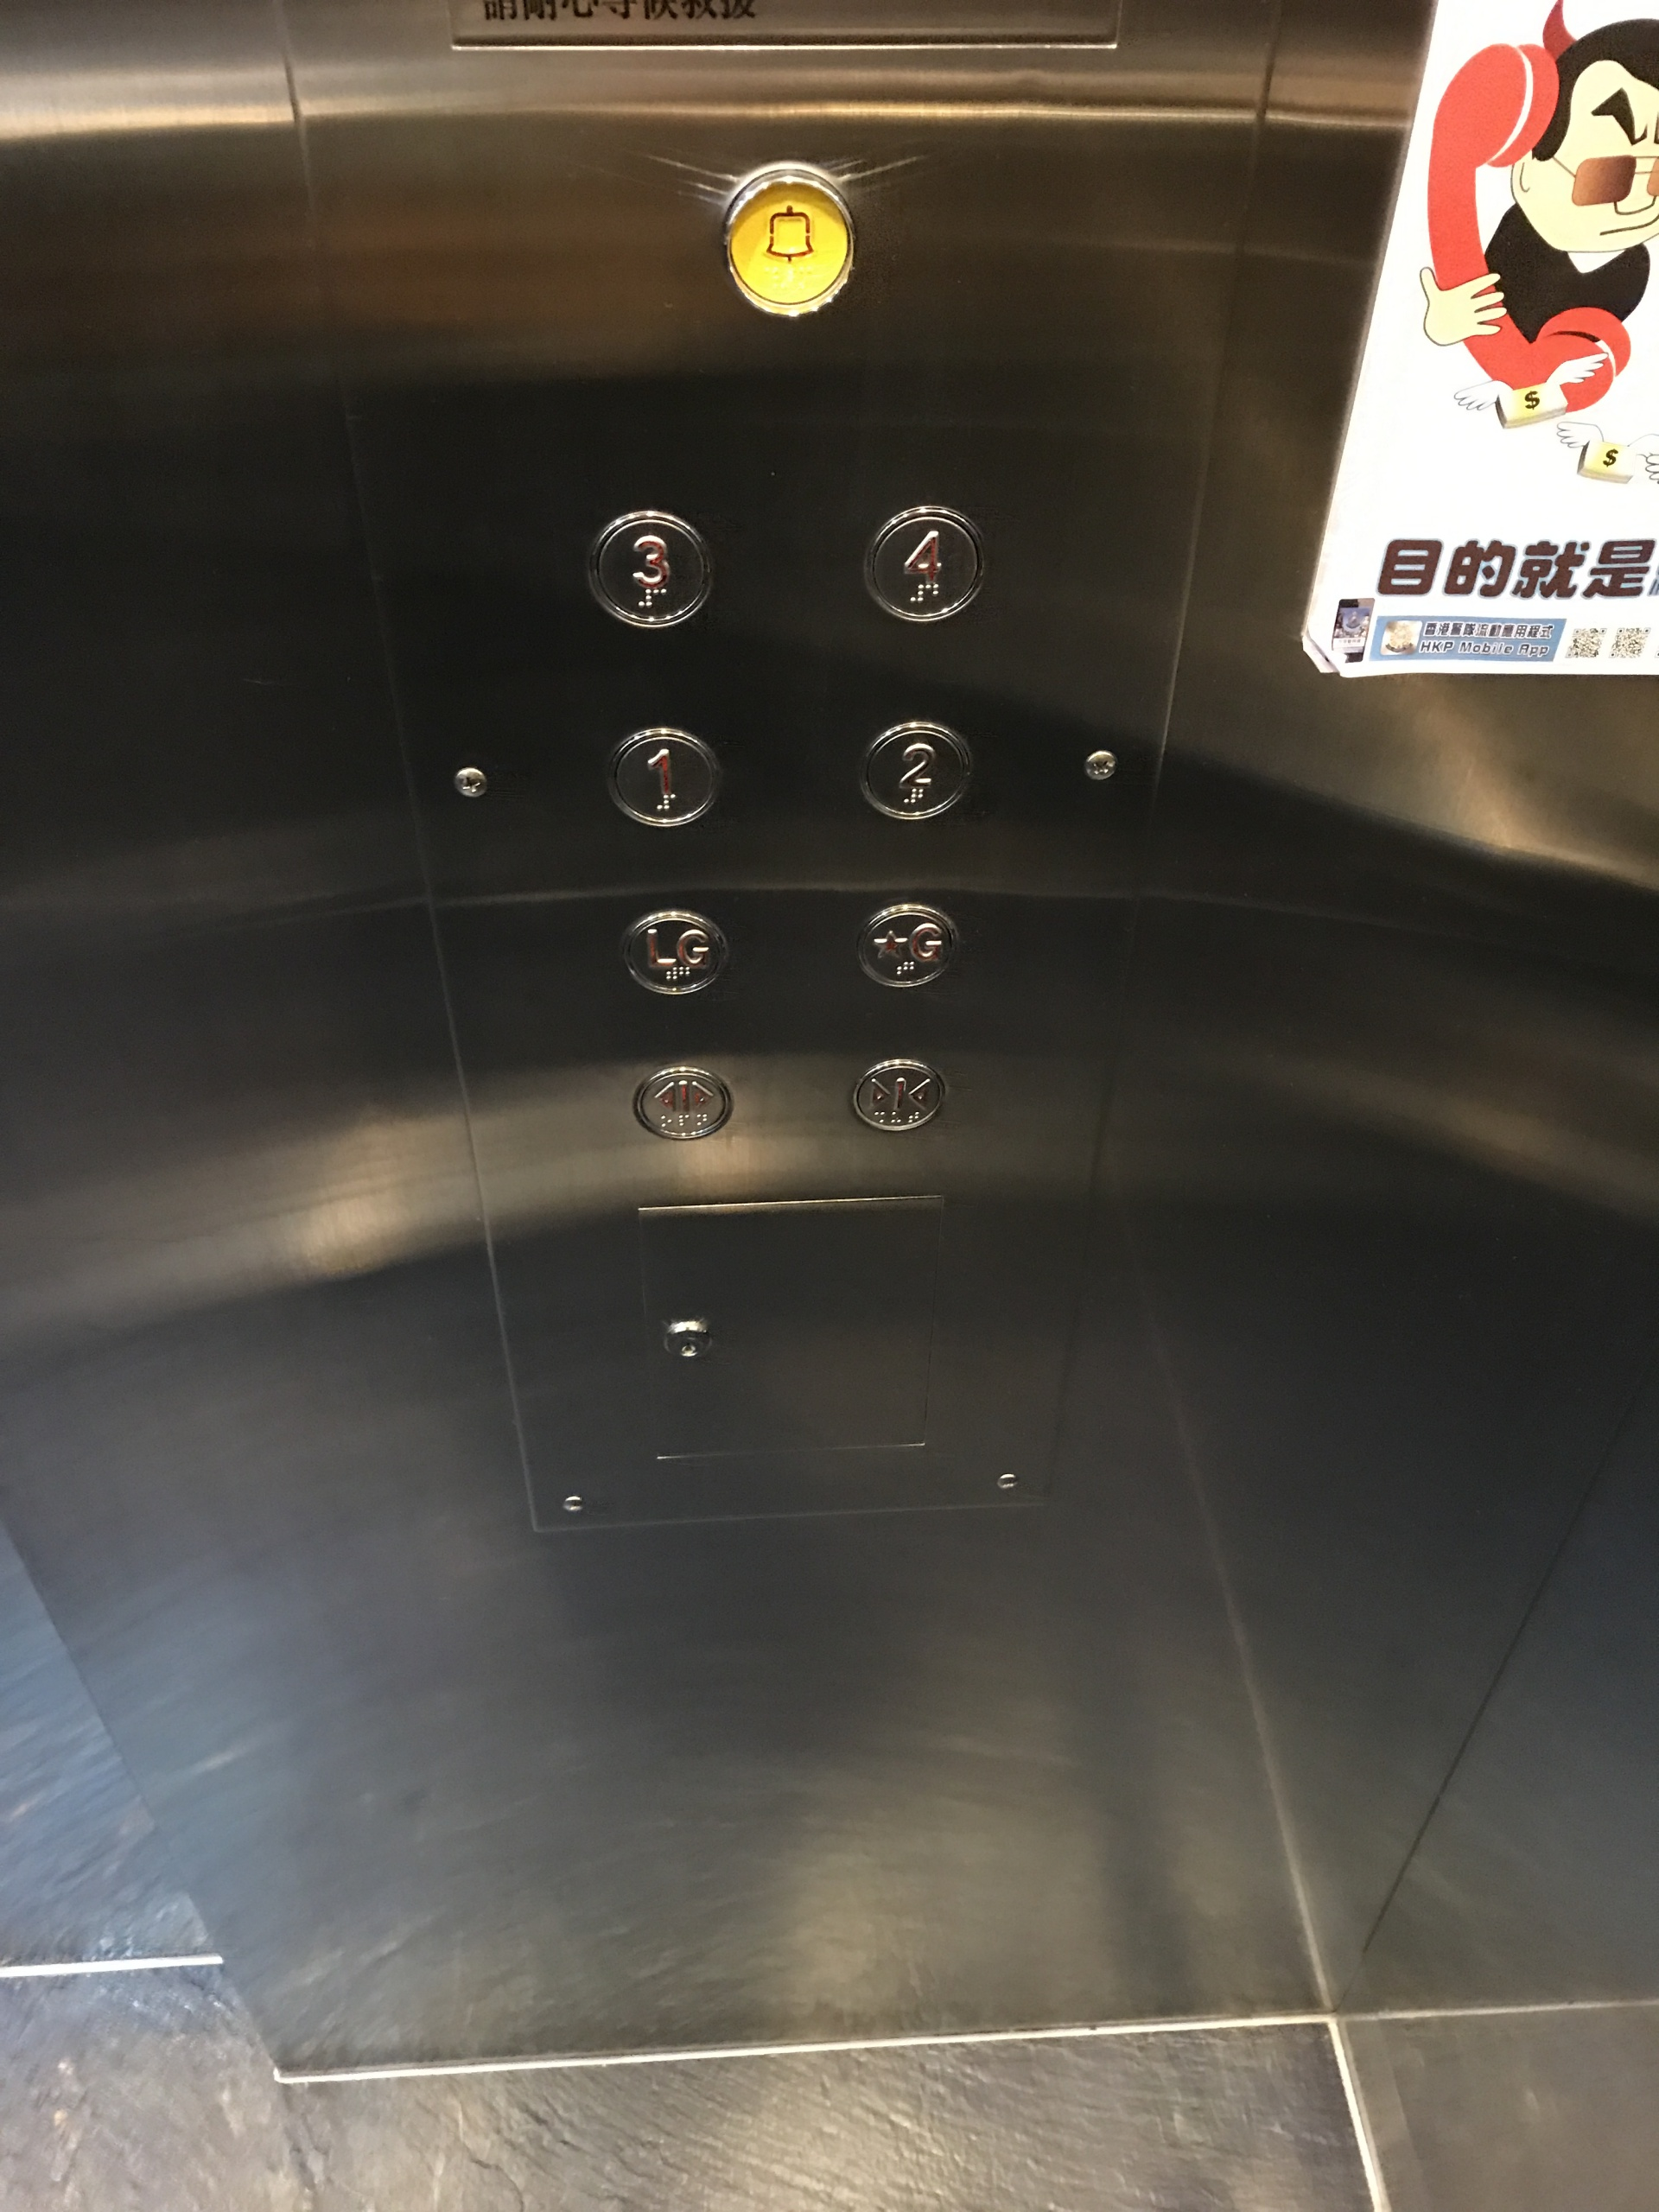1: (601, 725, 723, 829)
2: (854, 718, 974, 822)
3: (586, 507, 713, 634)
4: (859, 500, 988, 627)
LG: (619, 907, 728, 996)
alarm: (718, 160, 859, 326)
close: (849, 1055, 946, 1134)
open: (631, 1062, 734, 1143)
sG: (852, 900, 958, 989)
